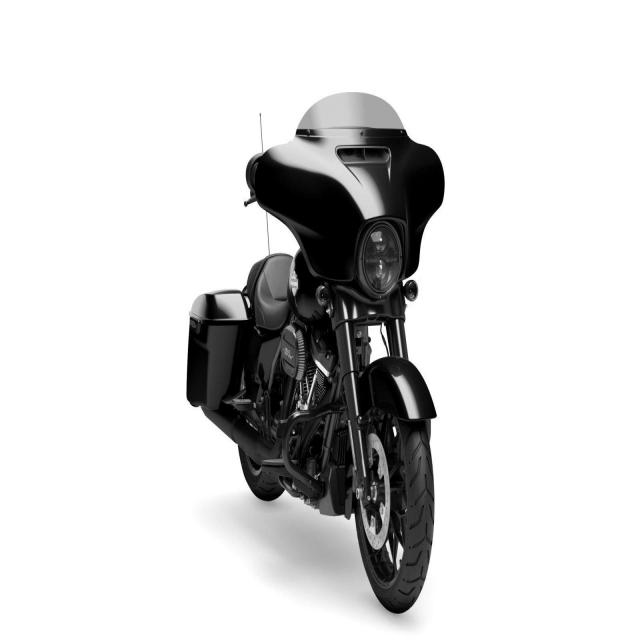Motorcycle: (186, 91, 445, 613)
